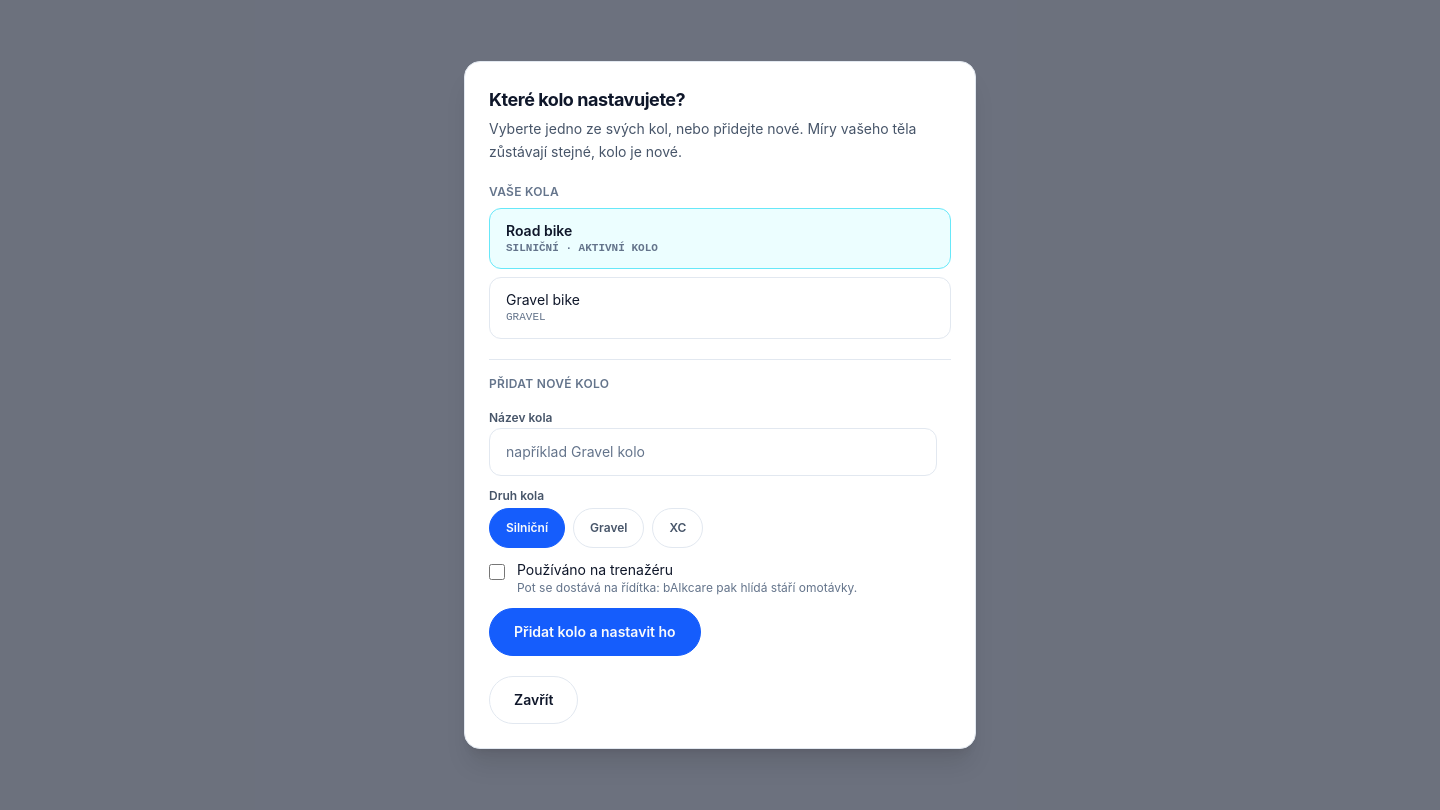
it: the which-bike dialog (cs) › the dialog › should say when the bike could not be added and stay open
In the field labelled "Název kola": {"x": 713, "y": 452} [489,428,937,476], type "Trail bike"
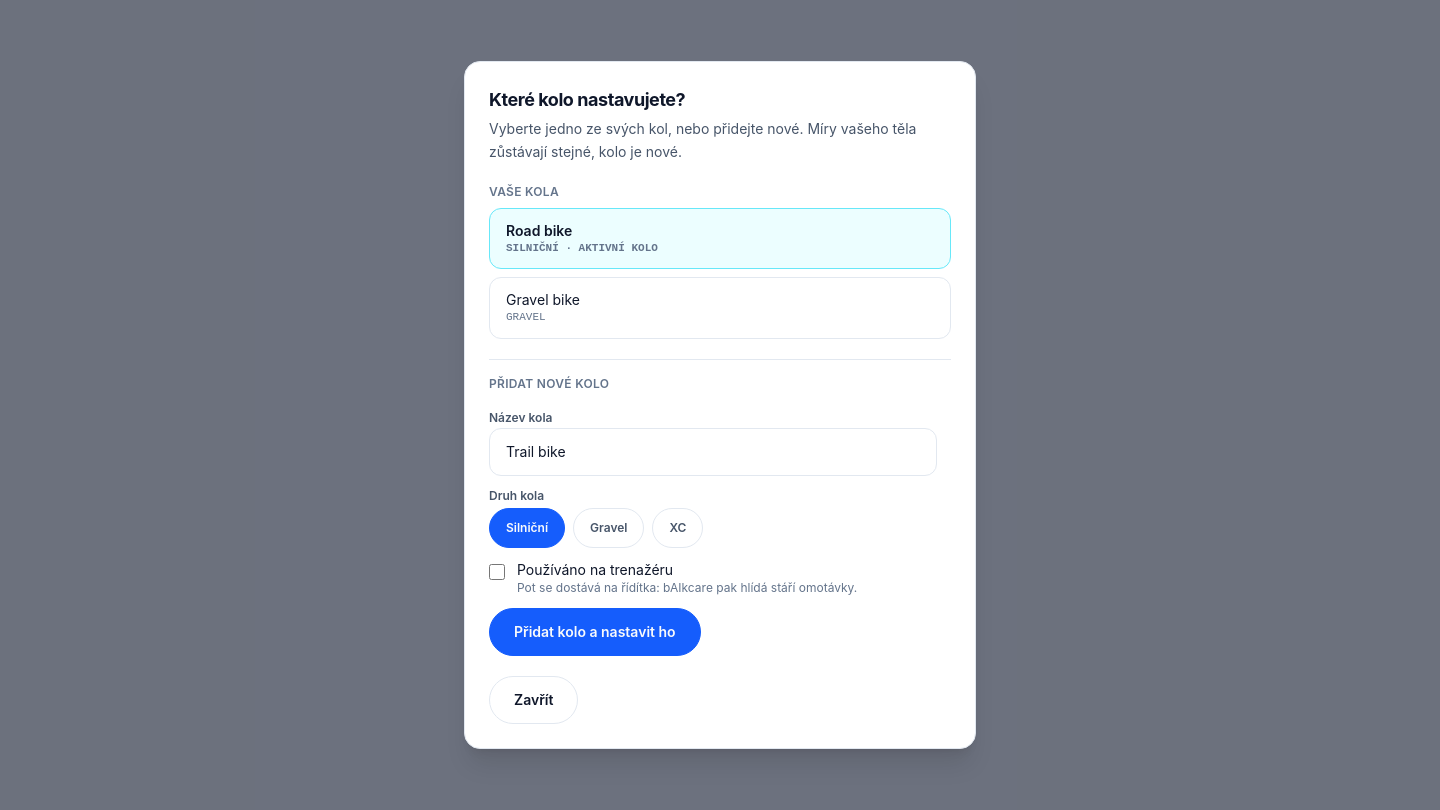
Click the button "Přidat kolo a nastavit ho": {"x": 595, "y": 632} [489,608,701,656]
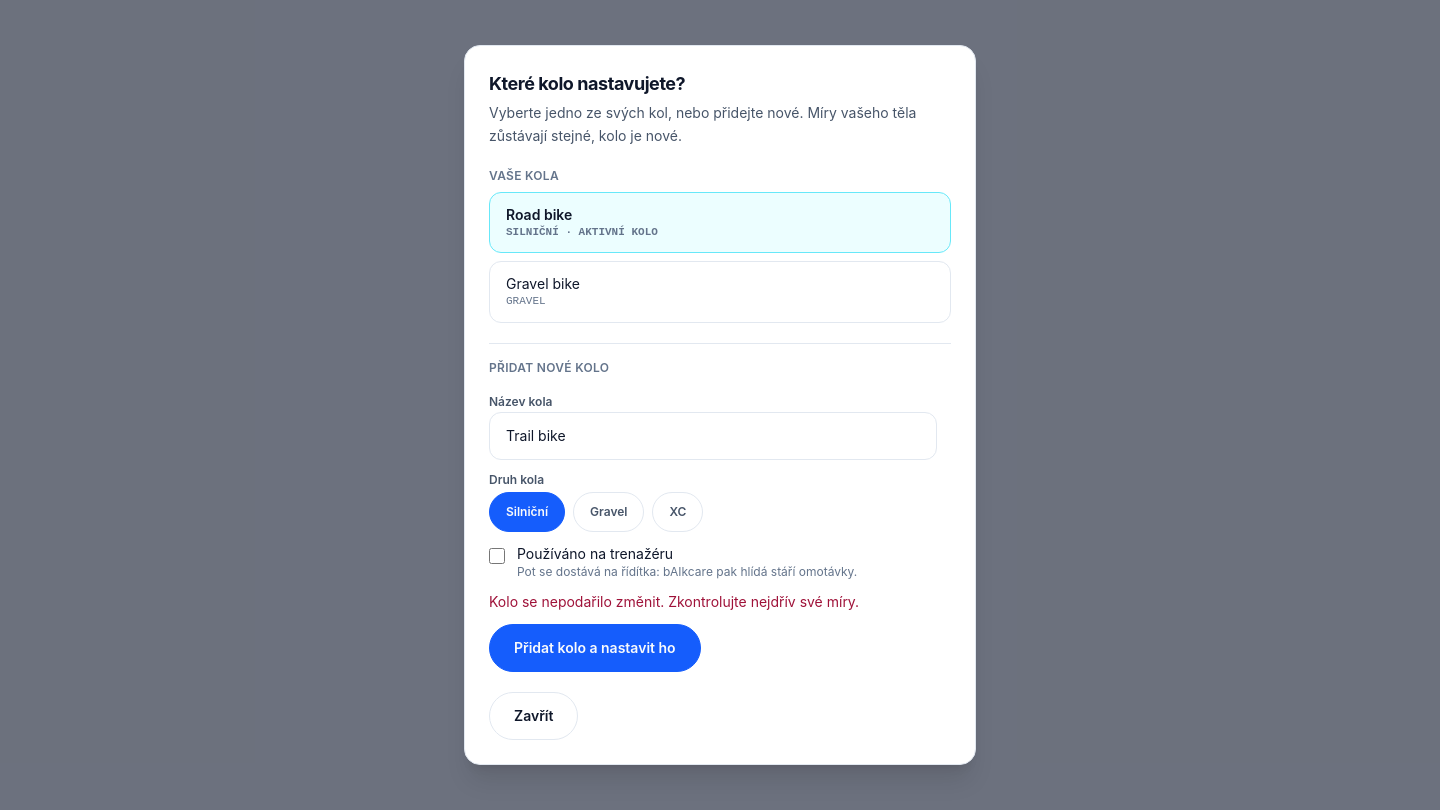
Expected: the message reads "Kolo se nepodařilo změnit. Zkontrolujte nejdřív své míry.", [489,593,859,610]
